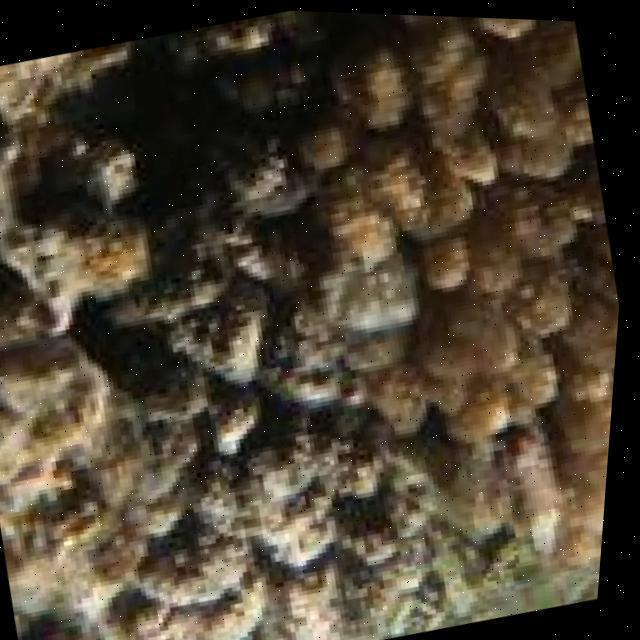Dead Coral: (99, 48, 345, 577)
Healthy Coral: (342, 0, 640, 546)
